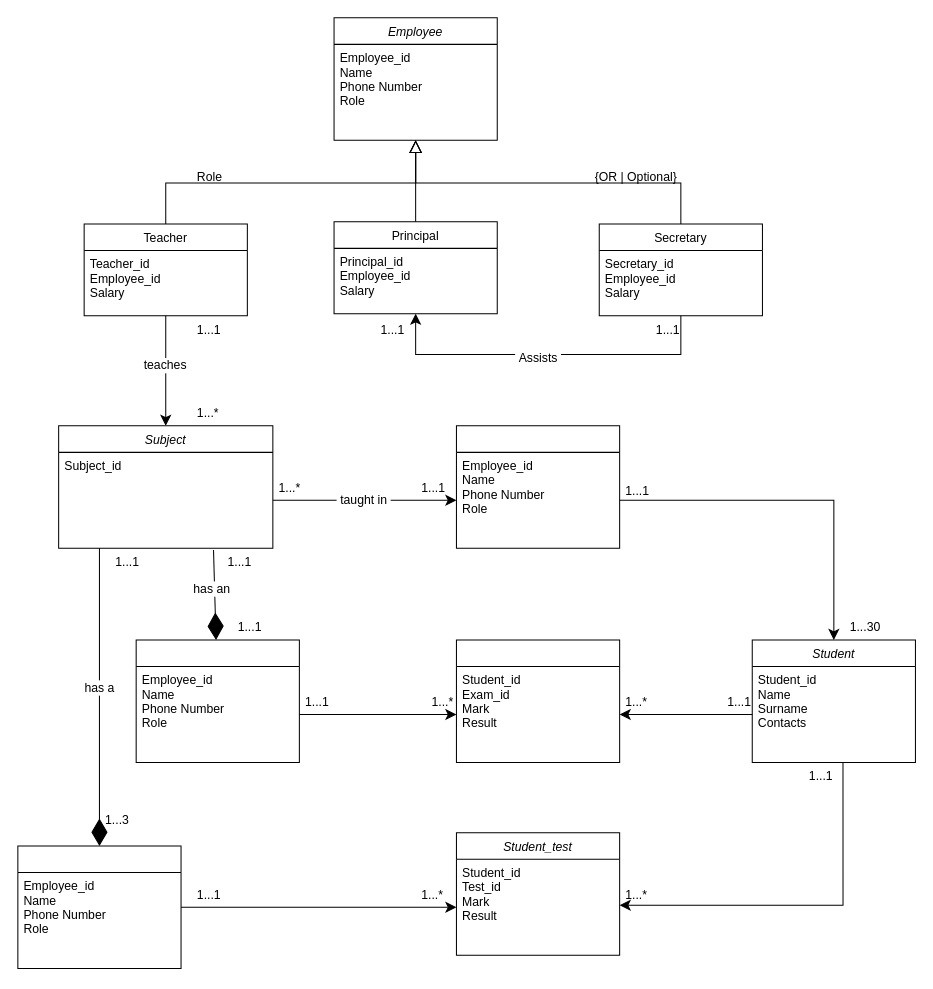
This 933x989 diagram has some shape labels left out. The box of each missing label's shape, as (x1, y1, x2, y2) in pixels:
Classroom: (455, 425, 620, 548)
Exam: (135, 639, 299, 762)
Student_exam: (455, 639, 620, 762)
Test: (17, 845, 181, 968)
